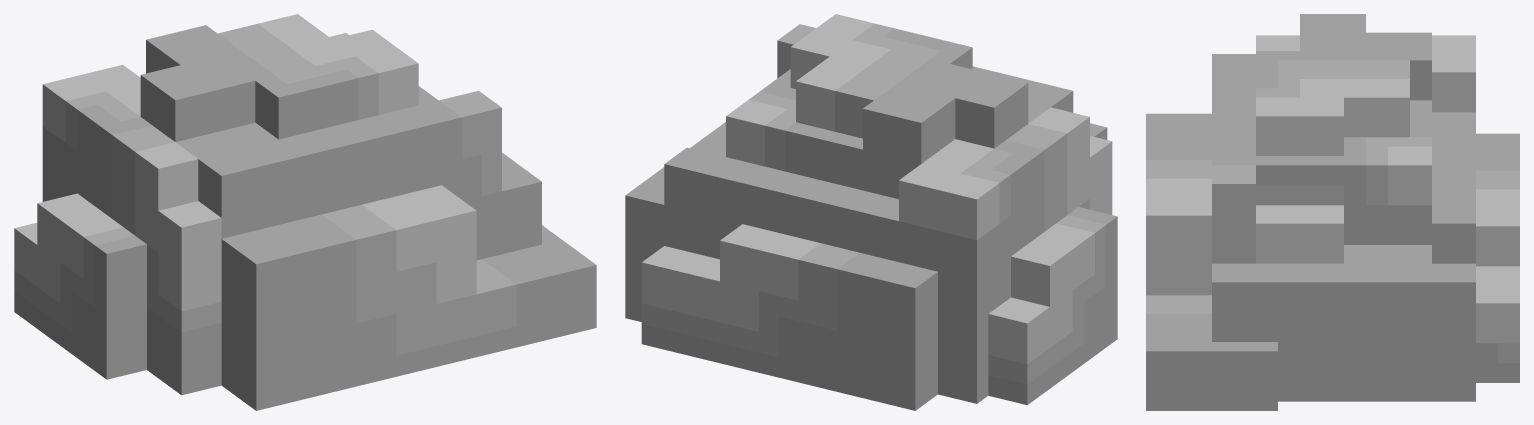
The model's file is BeesAndTrees-7.obj.
The picture shows the model from 3 angles, left to right: view 1: azimuth 30°, elevation 25°; view 2: azimuth 150°, elevation 25°; view 3: azimuth 270°, elevation 25°; orthographic projection. The views are drawn at different scales.
Bounding box in the file's own units: 2.1 × 1.2 × 1.7.
Materials: 1 (1 with a texture image).
